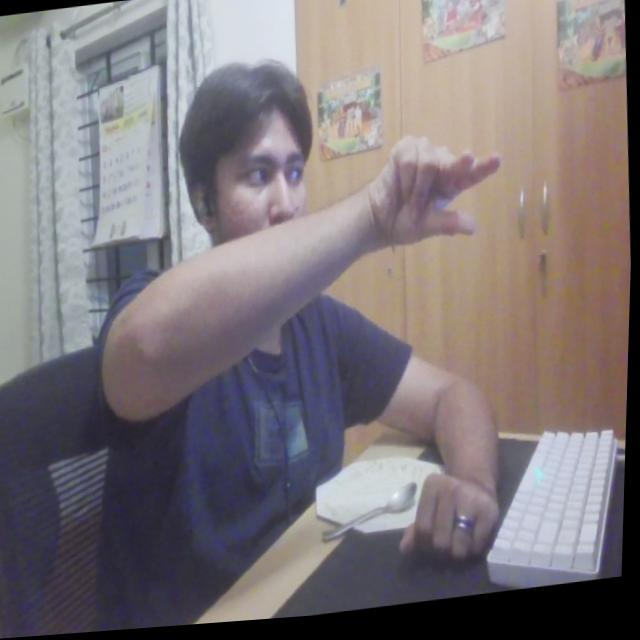no: (366, 123, 523, 279)
